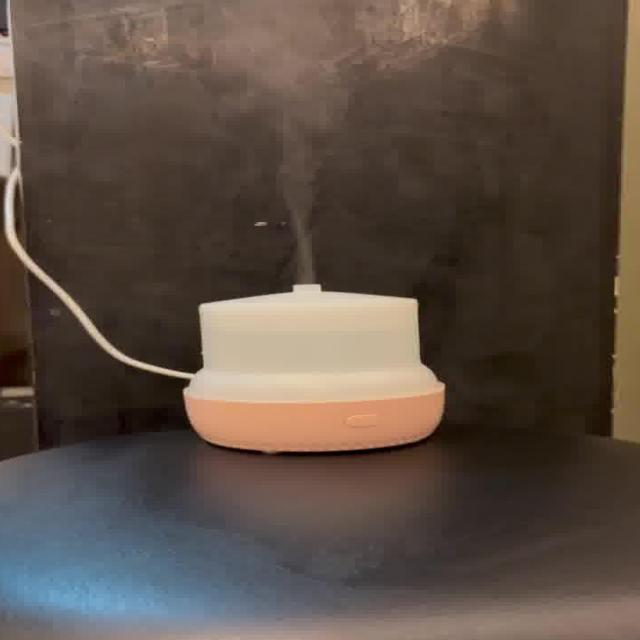fire: (276, 30, 330, 282)
